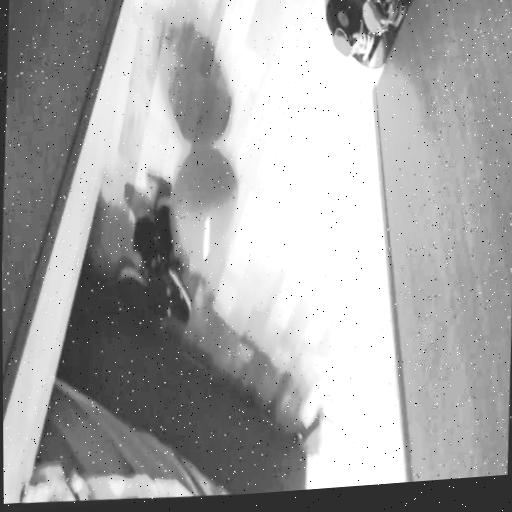balloon: (162, 129, 248, 281)
